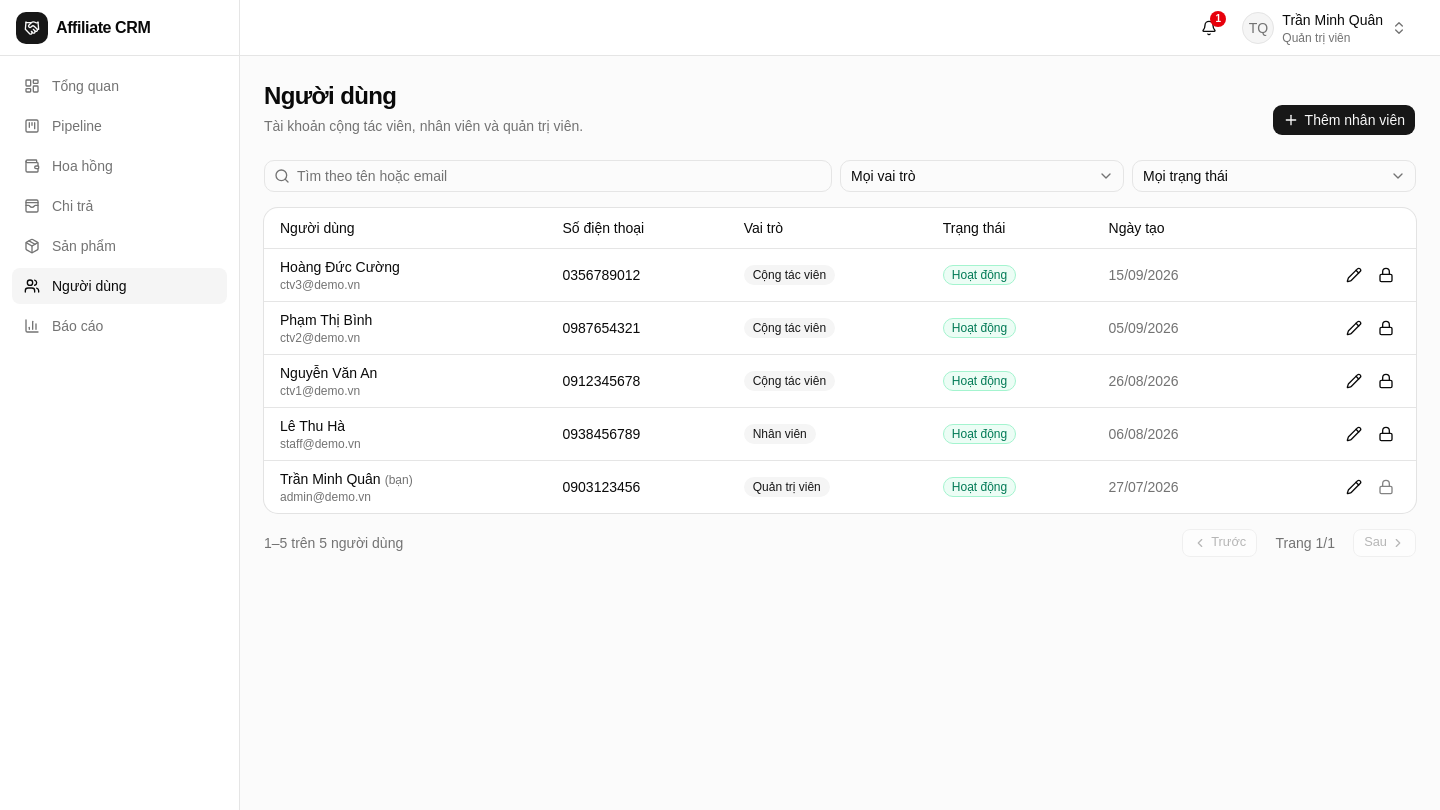
Test: UsersPage (admin) › edits name and phone
Click the button named "Sửa Lê Thu Hà" at [1354, 434], box [1340,420,1368,448]
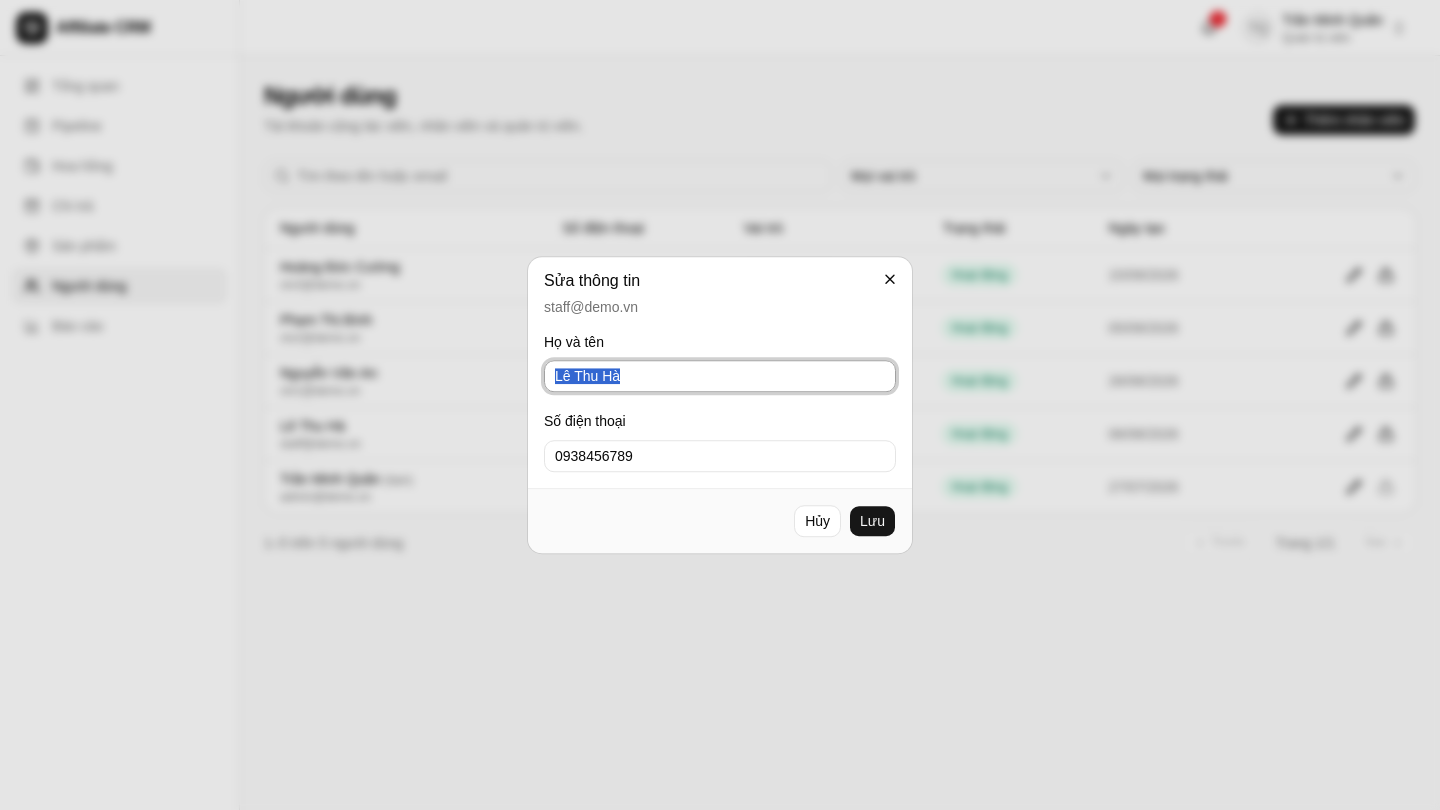
Replace the text in the field labelled "Số điện thoại" with "+84 938 000 111" at [720, 456], box [544,440,896,472]
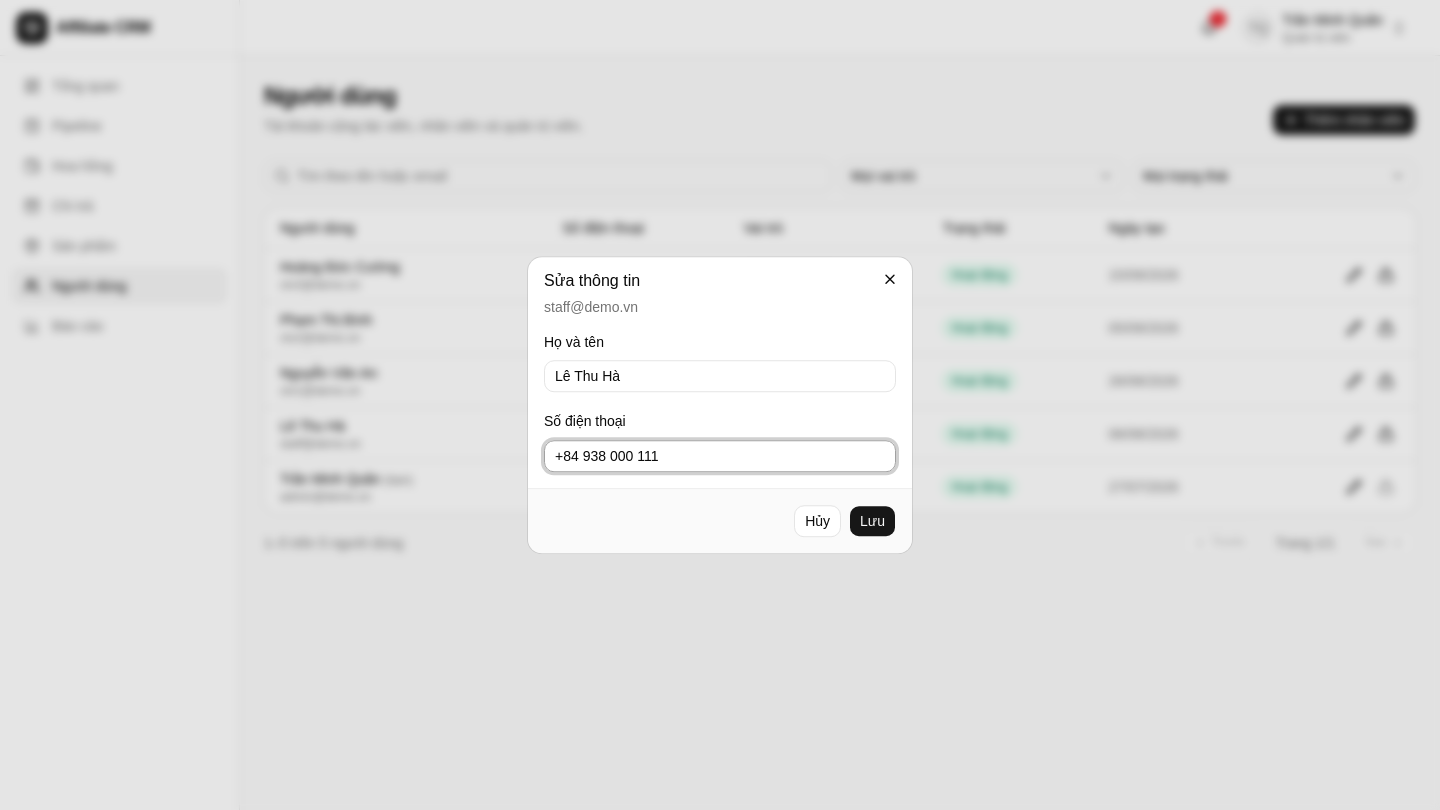
Click the button "Lưu" at [872, 521], box [849,505,896,537]
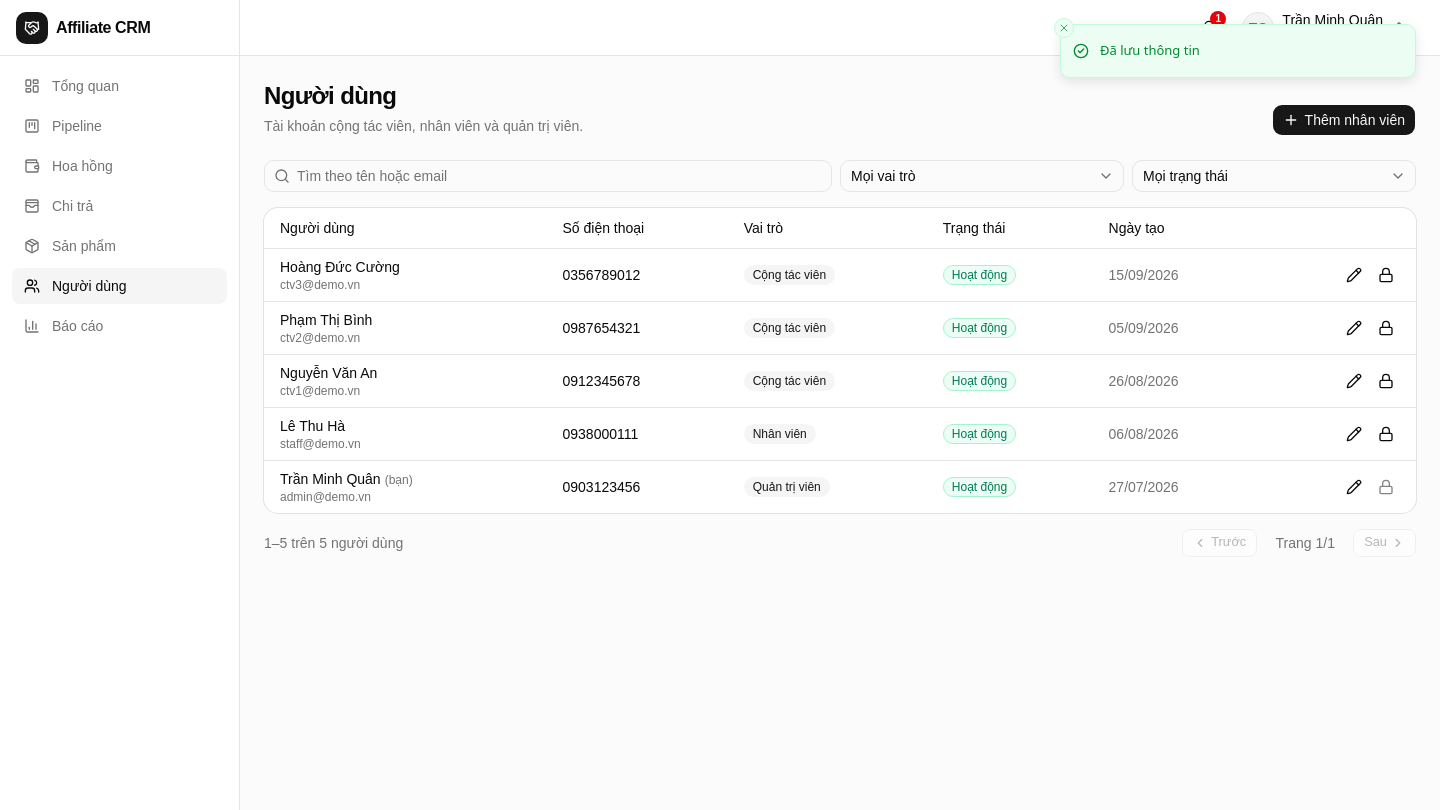
expect the text "Đã lưu thông tin" is shown: met, box [1100,41,1200,60]
